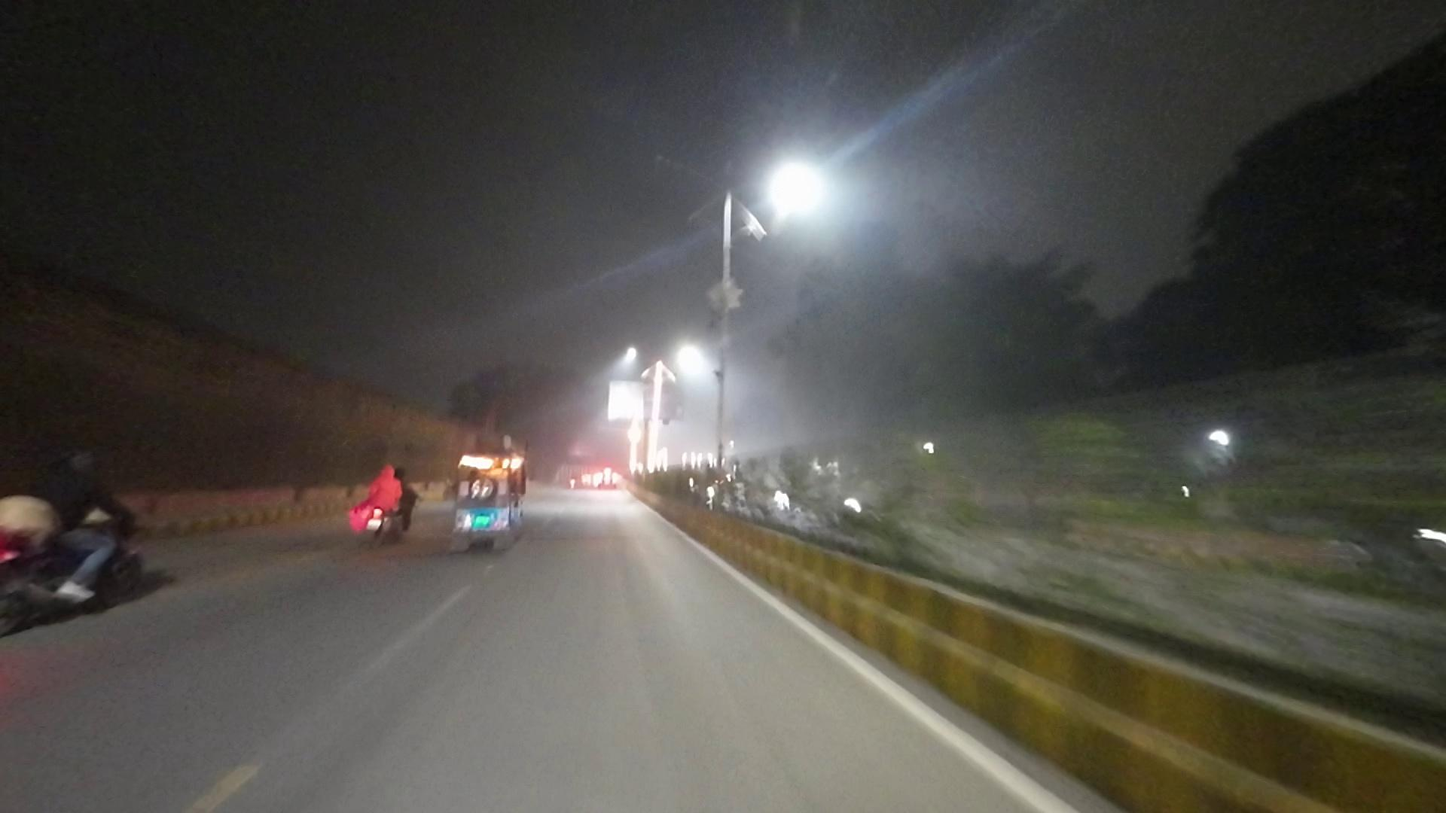streetlight: (647, 150, 702, 176)
